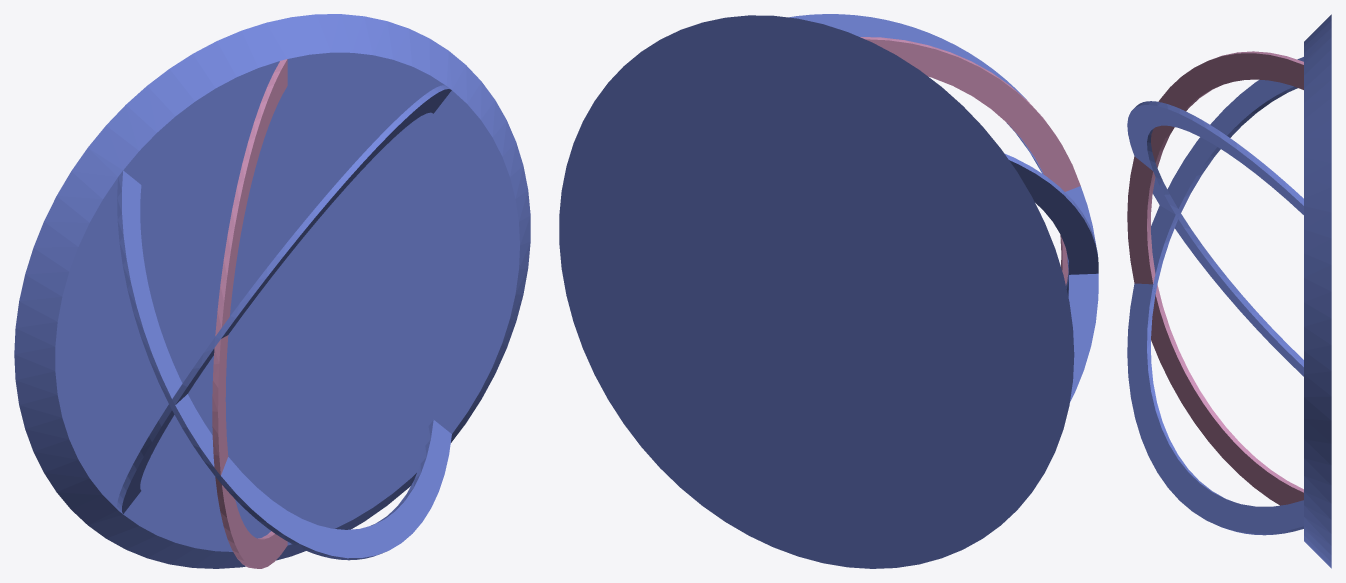
File: Stage2.obj
The picture shows the model from 3 angles, left to right: view 1: azimuth 30°, elevation 25°; view 2: azimuth 150°, elevation 25°; view 3: azimuth 270°, elevation 25°; orthographic projection. The views are drawn at different scales.
Parts seen in each view (by area): view 1: Stage2_Stage2.001; view 2: Stage2_Stage2.001; view 3: Stage2_Stage2.001.
Boxes of the visible parts, x1=… form: Stage2_Stage2.001: x1=14, y1=14, x2=530, y2=568; Stage2_Stage2.001: x1=559, y1=14, x2=1098, y2=568; Stage2_Stage2.001: x1=1127, y1=14, x2=1331, y2=568.
Bounding box in the file's own units: 9.99 × 10 × 3.68.
